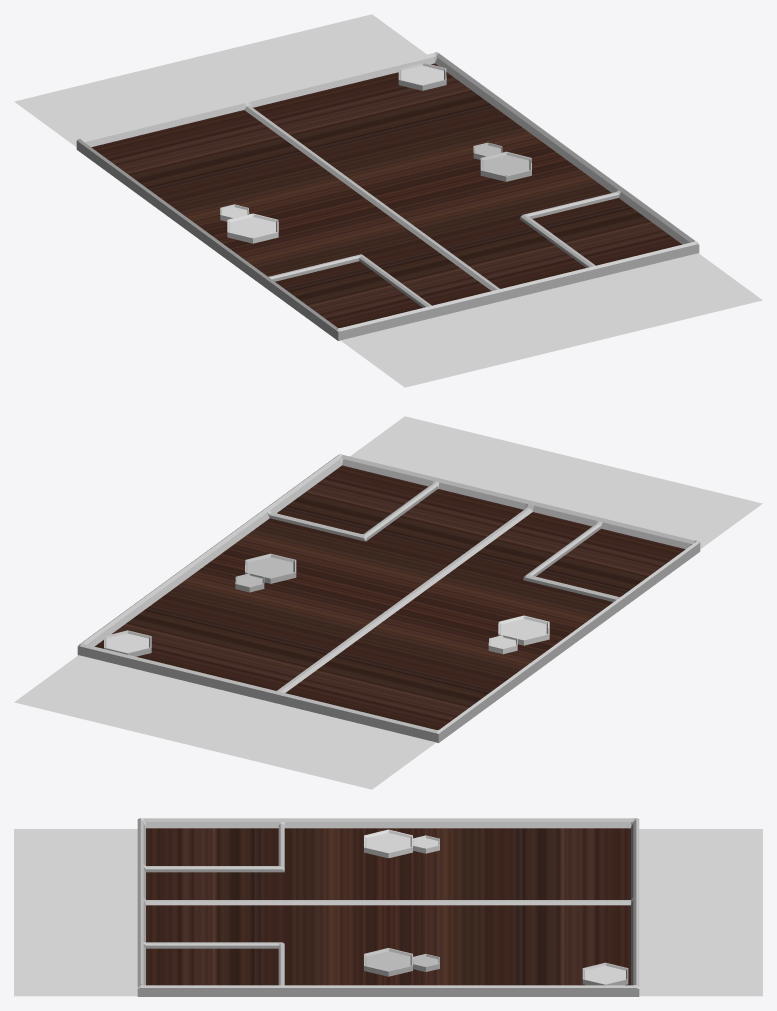
Rendered from Board-Test.fbx.
The picture shows the model from 3 angles, top to bottom: view 1: azimuth 30°, elevation 25°; view 2: azimuth 150°, elevation 25°; view 3: azimuth 270°, elevation 25°; orthographic projection. The views are drawn at different scales.
Visible parts, largest first — view 1: BoardFoundation, Plane, OpponentPortrait, PlayerPortrait, LlamaOrbBorder; view 2: BoardFoundation, Plane, OpponentPortrait, PlayerPortrait, LlamaOrbBorder; view 3: BoardFoundation, Plane, PlayerPortrait, OpponentPortrait, LlamaOrbBorder.
Part boxes in pixels (box(x1,y1,x2,y2)): BoardFoundation: box(76, 52, 699, 340); Plane: box(14, 14, 762, 387); OpponentPortrait: box(220, 204, 278, 243); PlayerPortrait: box(473, 142, 531, 181); LlamaOrbBorder: box(398, 62, 446, 90); BoardFoundation: box(77, 454, 700, 742); Plane: box(14, 416, 762, 789); OpponentPortrait: box(488, 615, 549, 654); PlayerPortrait: box(235, 553, 296, 592); LlamaOrbBorder: box(104, 630, 151, 656); BoardFoundation: box(137, 818, 639, 996); Plane: box(14, 829, 762, 996); PlayerPortrait: box(364, 948, 439, 976); OpponentPortrait: box(364, 829, 439, 858); LlamaOrbBorder: box(582, 962, 628, 985).
Size of the model in its own units: 3466 by 105 by 6499.
